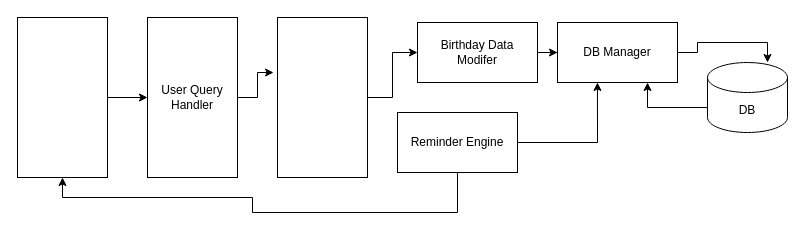
Some shapes in this 805 by 238 pixel diagram are drawn without their labels. Here are the shapes that lost their labels. From the top down, the centre of each, then its label:
point 62,97: User Portal
point 322,97: User Query Translater
